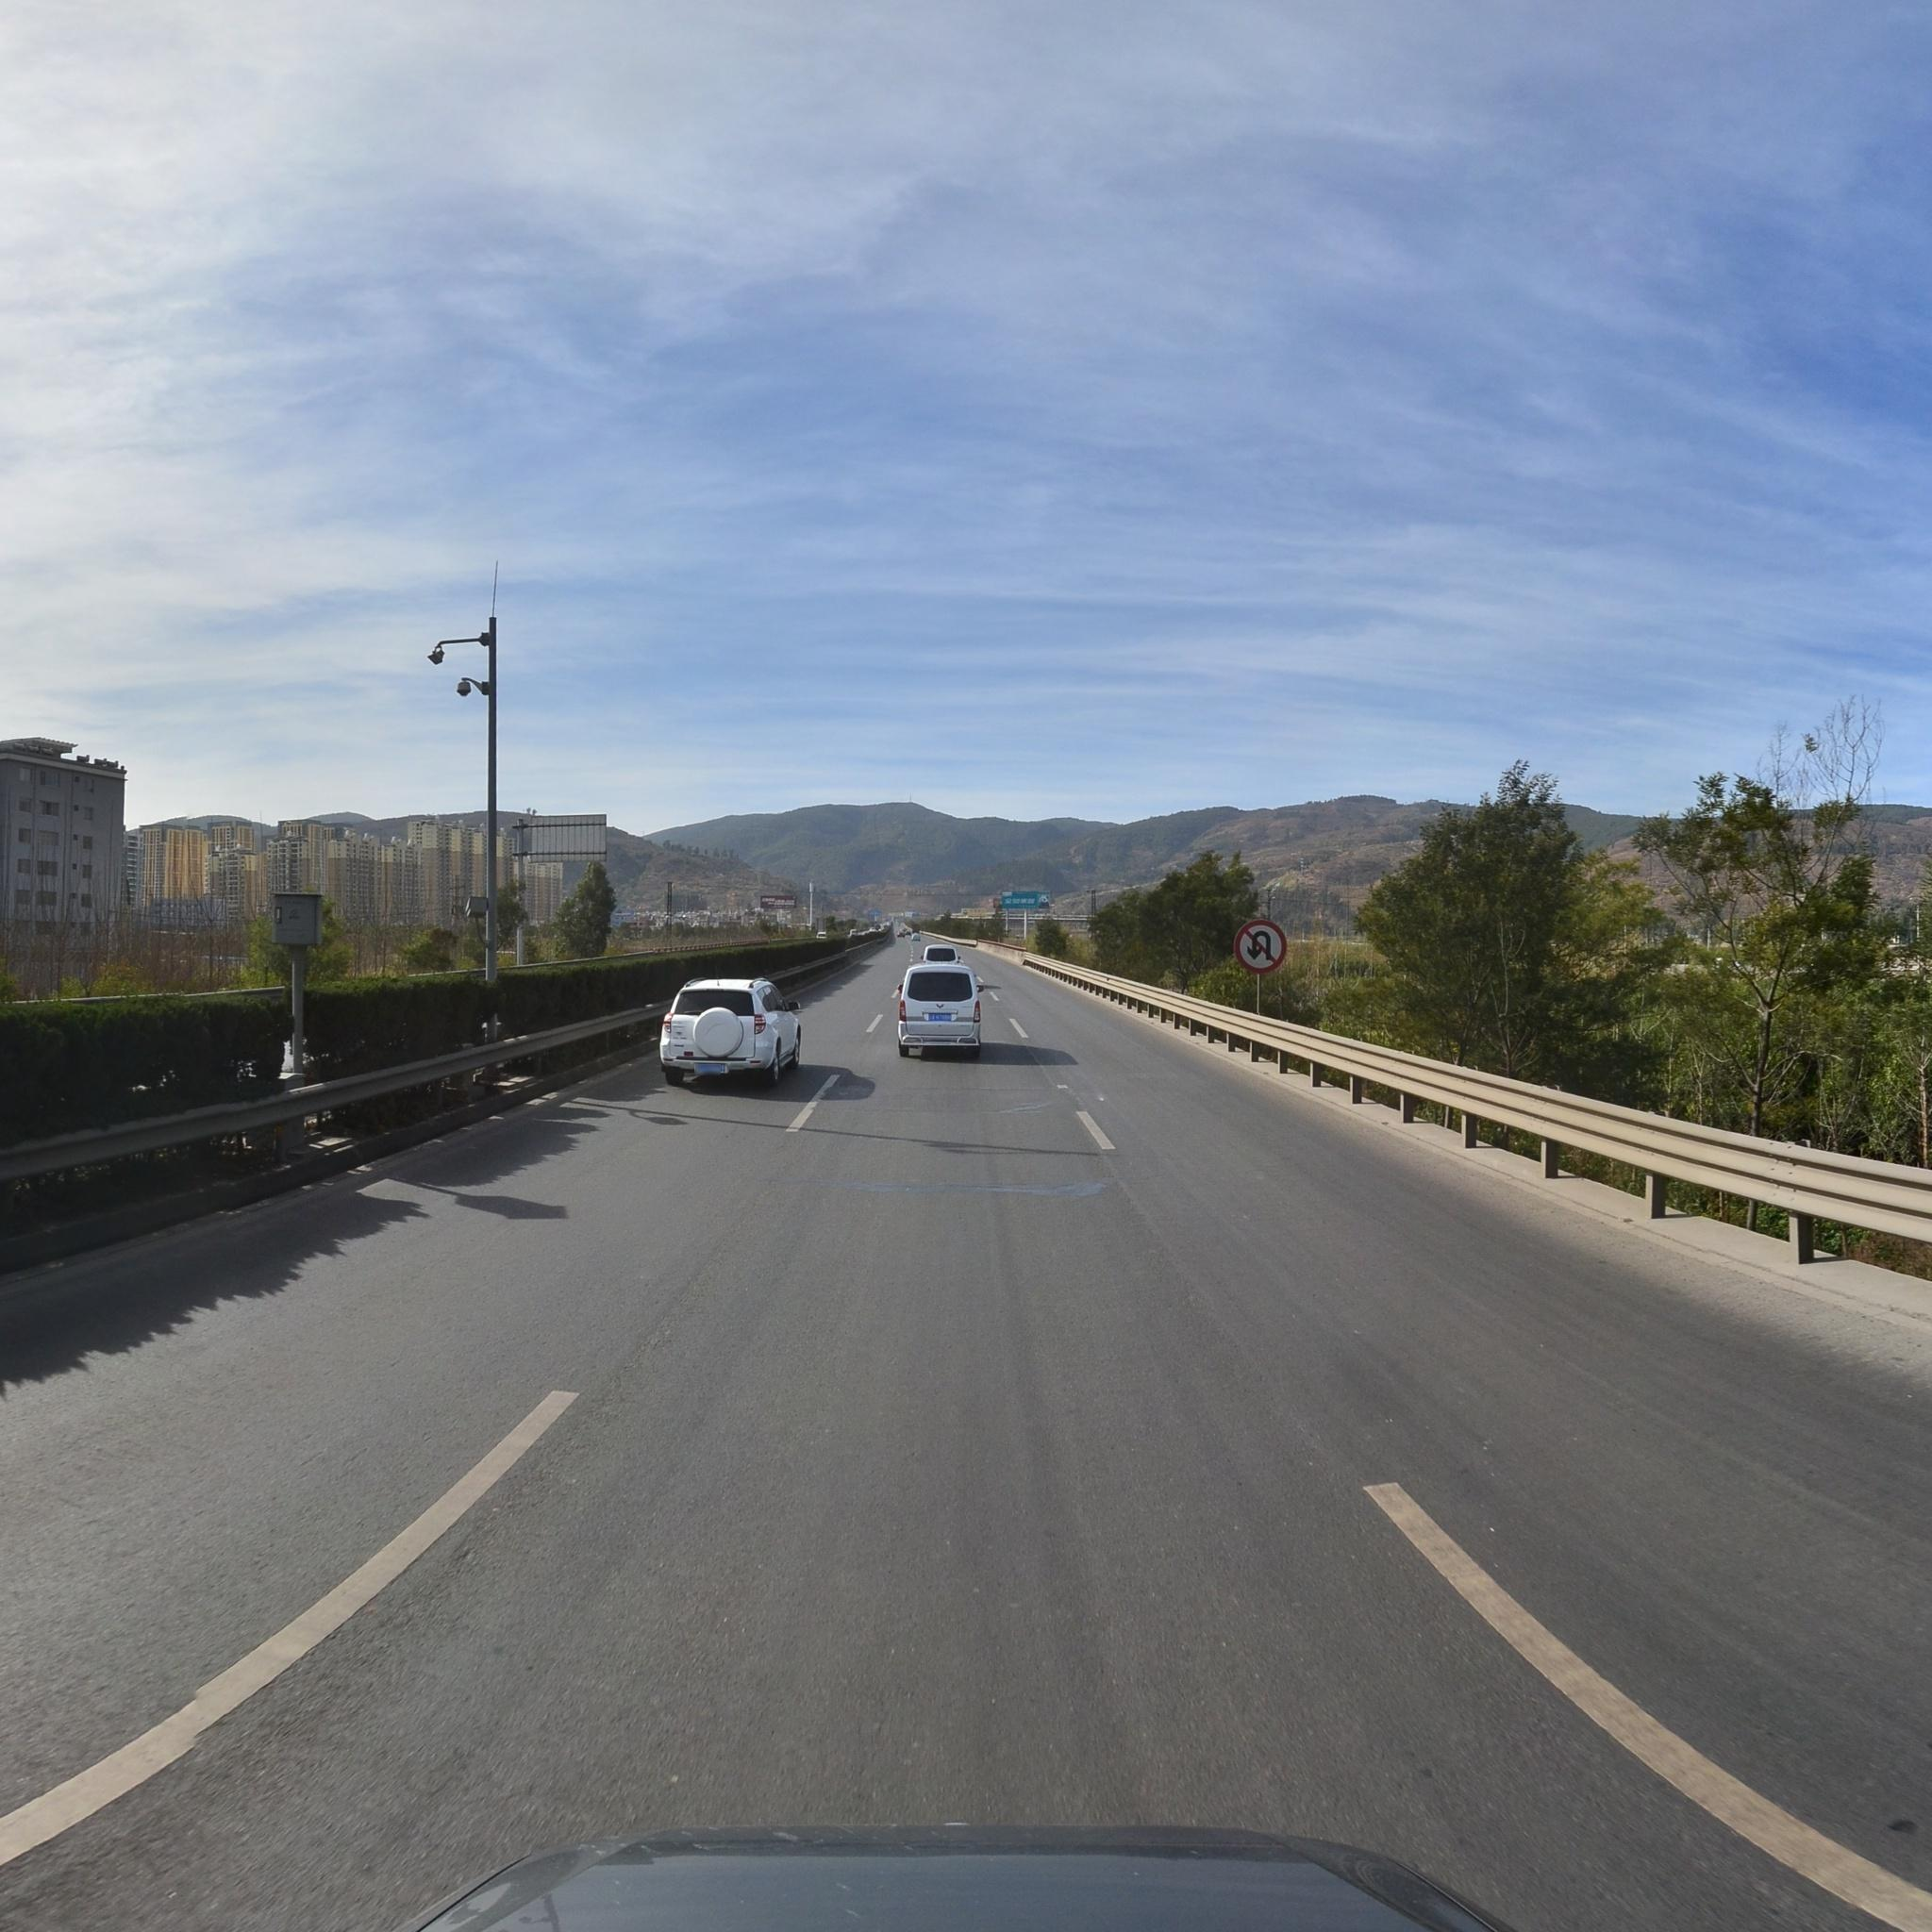p5: (1233, 918, 1288, 973)
